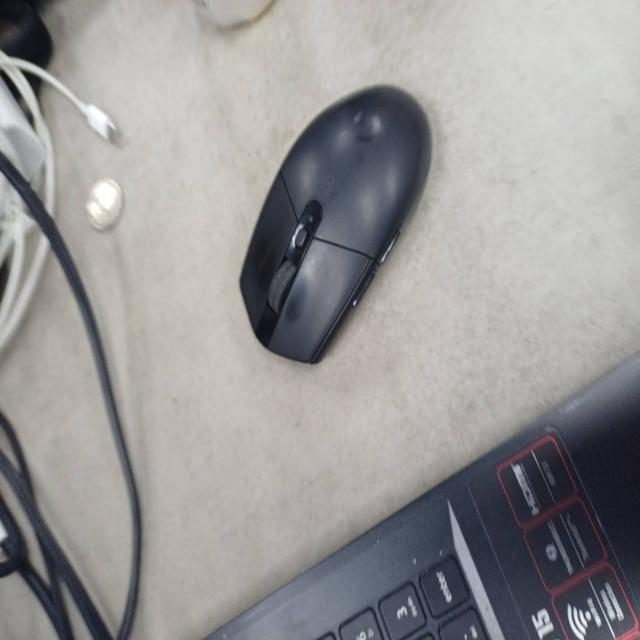mouse: (232, 77, 441, 371)
